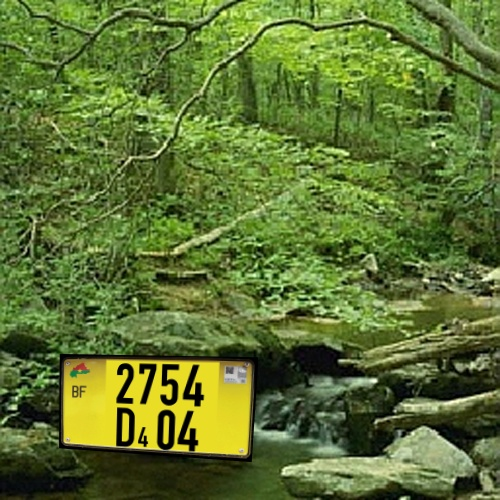plate: (50, 341, 273, 469)
